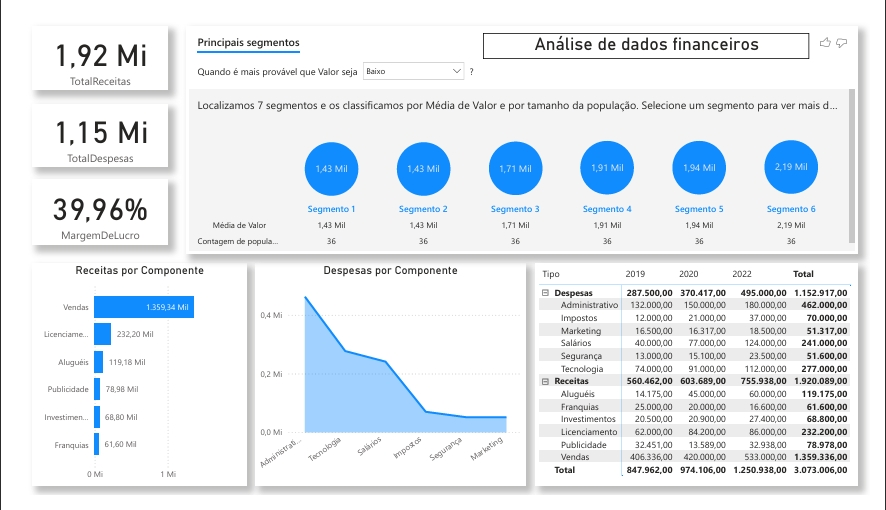

Layout of this report page (visuals, bound fields, positions):
{"tool":"powerbi","page":{"name":"Medidas","canvas":[1280,720],"ordinal":1},"visuals":[{"type":"card","fields":{"Values":["Medidas_Indicadores_Financeiros.TotalReceitas"]},"box":[25.2,16.8,203.3,95.7],"z":0},{"type":"card","fields":{"Values":["Medidas_Indicadores_Financeiros.TotalDespesas"]},"box":[25.2,134.4,203.3,94.1],"z":1000},{"type":"card","fields":{"Values":["Medidas_Indicadores_Financeiros.MargemDeLucro"]},"box":[25.2,246.9,203.3,99.1],"z":2000},{"type":"barChart","title":"Receitas por Componente","fields":{"Y":["Medidas_Indicadores_Financeiros.TotalReceitas"],"Category":["DadosFinanceiros.Componente"]},"box":[25.2,372.9,320.8,334.3],"z":3000},{"type":"stackedAreaChart","title":"Despesas por Componente","fields":{"Y":["Medidas_Indicadores_Financeiros.TotalDespesas"],"Category":["DadosFinanceiros.Componente"]},"box":[359.5,372.9,404.8,334.3],"z":3001},{"type":"keyDriversVisual","fields":{"Target":["DadosFinanceiros.Valor"],"ExplainBy":["DadosFinanceiros.Tipo","DadosFinanceiros.Componente"]},"box":[255.3,16.8,1006.2,342.7],"z":3002},{"type":"pivotTable","fields":{"Columns":["DadosFinanceiros.Data.Variation.Hierarquia de datas.Ano"],"Rows":["DadosFinanceiros.Tipo","DadosFinanceiros.Componente"],"Values":["Sum(DadosFinanceiros.Valor)"]},"box":[779.4,372.9,482.1,334.3],"z":3003},{"type":"textbox","title":"Análise de dados financeiros","box":[700.5,26.9,488.8,38.6],"z":3004}]}

Visuals, with their boxes in screenshot pixels (x1, y1, x2, y2), scaled from the page's 1280x720 canvas onto the 886x510 screenshot:
card - Medidas_Indicadores_Financeiros.TotalReceitas: (x1=17, y1=12, x2=158, y2=80)
card - Medidas_Indicadores_Financeiros.TotalDespesas: (x1=17, y1=95, x2=158, y2=162)
card - Medidas_Indicadores_Financeiros.MargemDeLucro: (x1=17, y1=175, x2=158, y2=245)
"Receitas por Componente" barChart: (x1=17, y1=264, x2=239, y2=501)
"Despesas por Componente" stackedAreaChart: (x1=249, y1=264, x2=529, y2=501)
keyDriversVisual - DadosFinanceiros.Valor x DadosFinanceiros.Tipo: (x1=177, y1=12, x2=873, y2=255)
pivotTable - DadosFinanceiros.Data.Variation.Hierarquia de datas.Ano x DadosFinanceiros.Tipo: (x1=539, y1=264, x2=873, y2=501)
"Análise de dados financeiros" textbox: (x1=485, y1=19, x2=823, y2=46)
